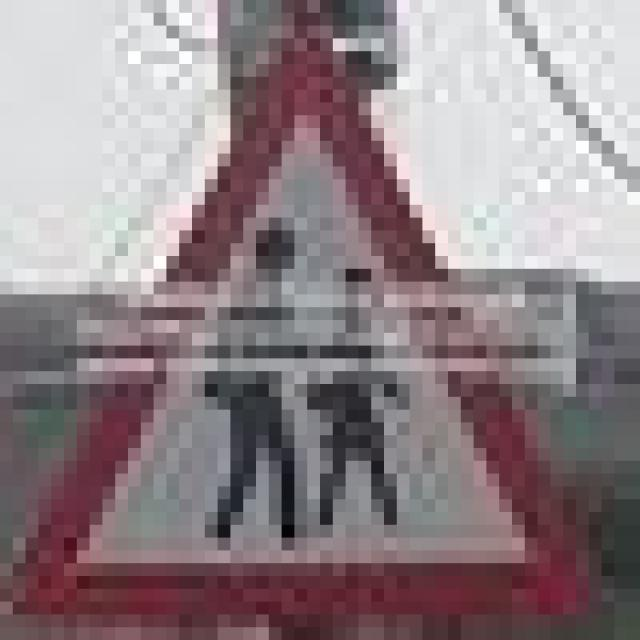SCHOOL_AHEAD: (0, 0, 589, 602)
